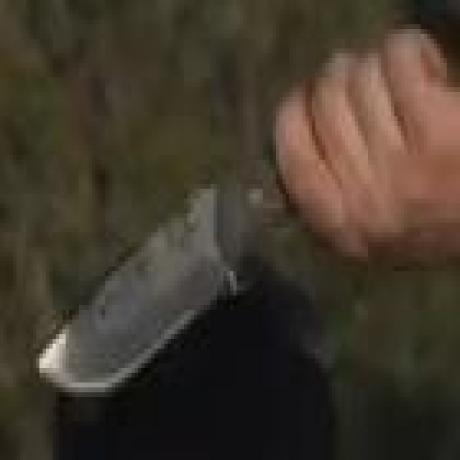1: (271, 26, 460, 262)
weapon: (34, 163, 283, 403)
